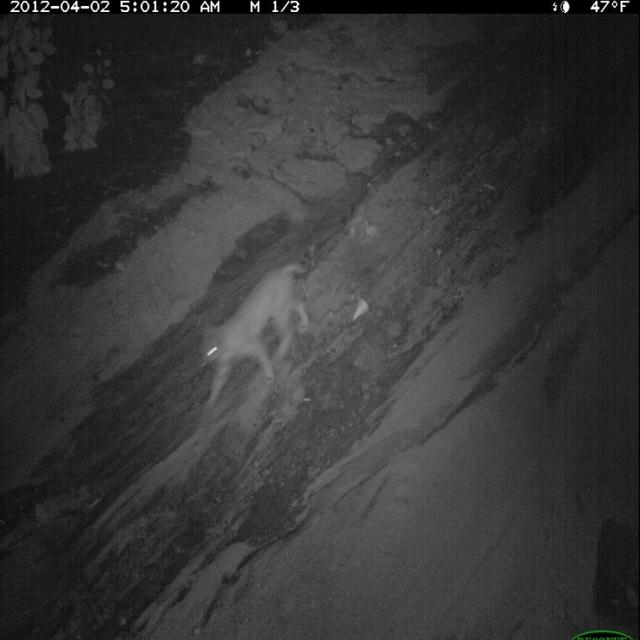bobcat: (198, 256, 314, 416)
